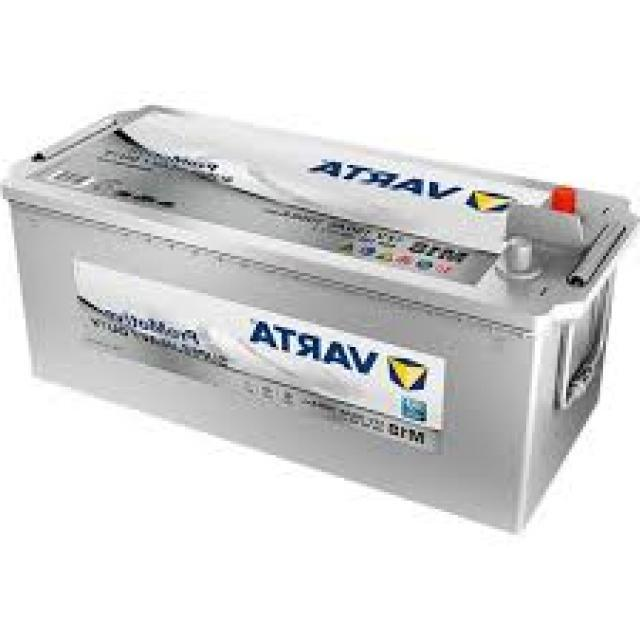battery: (0, 104, 634, 532)
